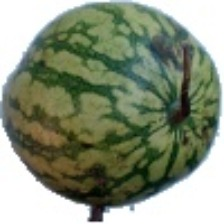watermelon: (30, 43, 175, 211)
